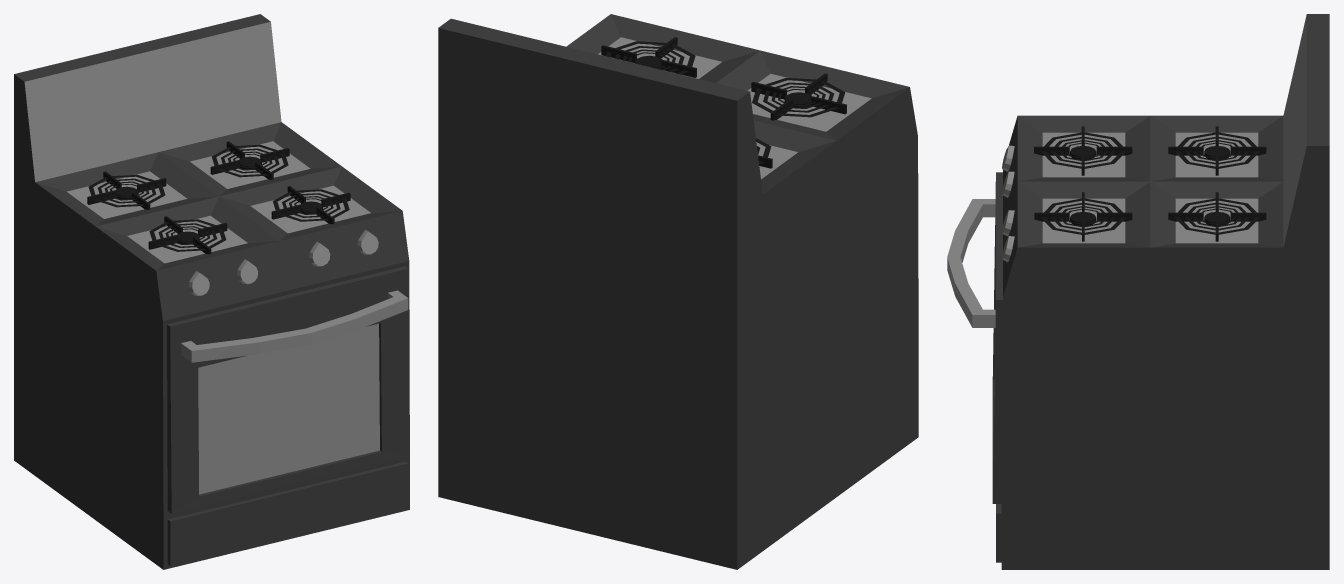
File: Stove.glb
The picture shows the model from 3 angles, left to right: view 1: azimuth 30°, elevation 25°; view 2: azimuth 150°, elevation 25°; view 3: azimuth 270°, elevation 25°; orthographic projection. The views are drawn at different scales.
Parts seen in each view (by area): view 1: Stove; view 2: Stove; view 3: Stove.
Part boxes in pixels (box(x1,y1,x2,y2)): Stove: box(14, 14, 409, 569); Stove: box(438, 14, 918, 569); Stove: box(947, 14, 1329, 569).
Size of the model in its own units: 1.35 by 2.02 by 1.65.
Materials: 1 (1 with a texture image).
